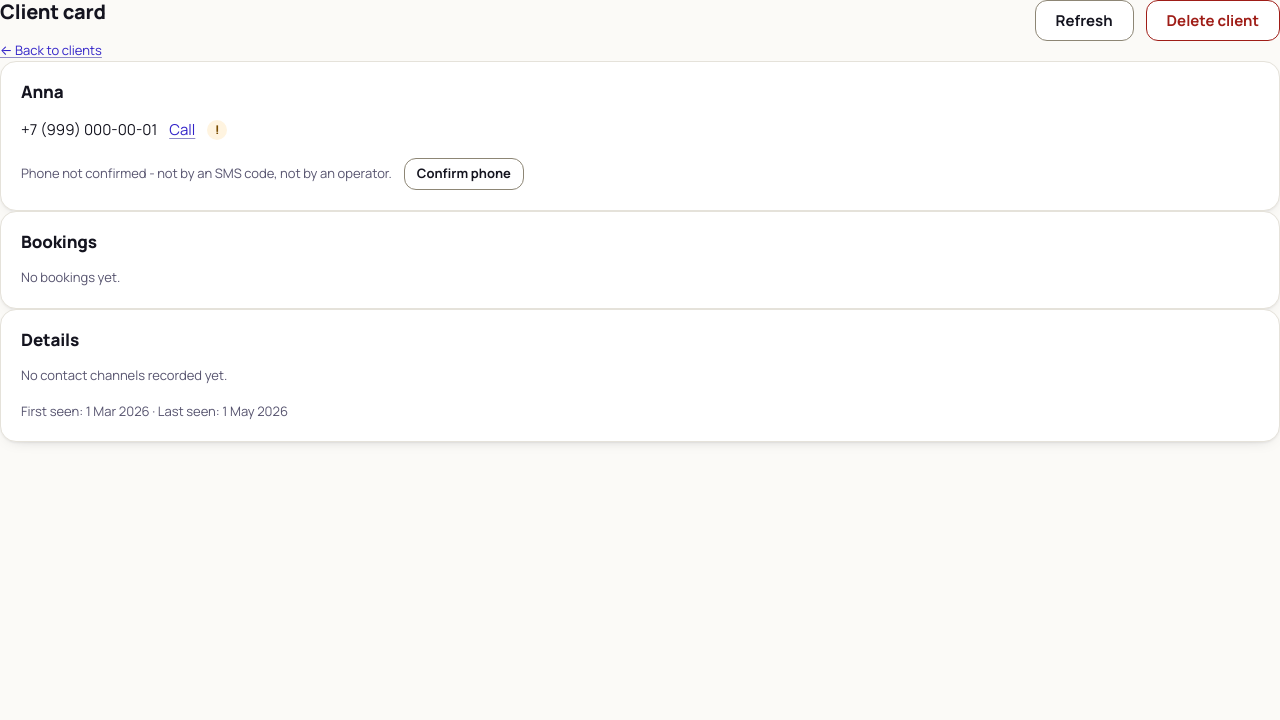
the delete-client action (26-275) › swaps the confirm dialog for the blocked one when the server refuses with 409 person_erase.future_bookings
This screenshot has width=1280, height=720.
Click the button "Delete client".
click(1213, 20)  # box [1146, 0, 1279, 41]
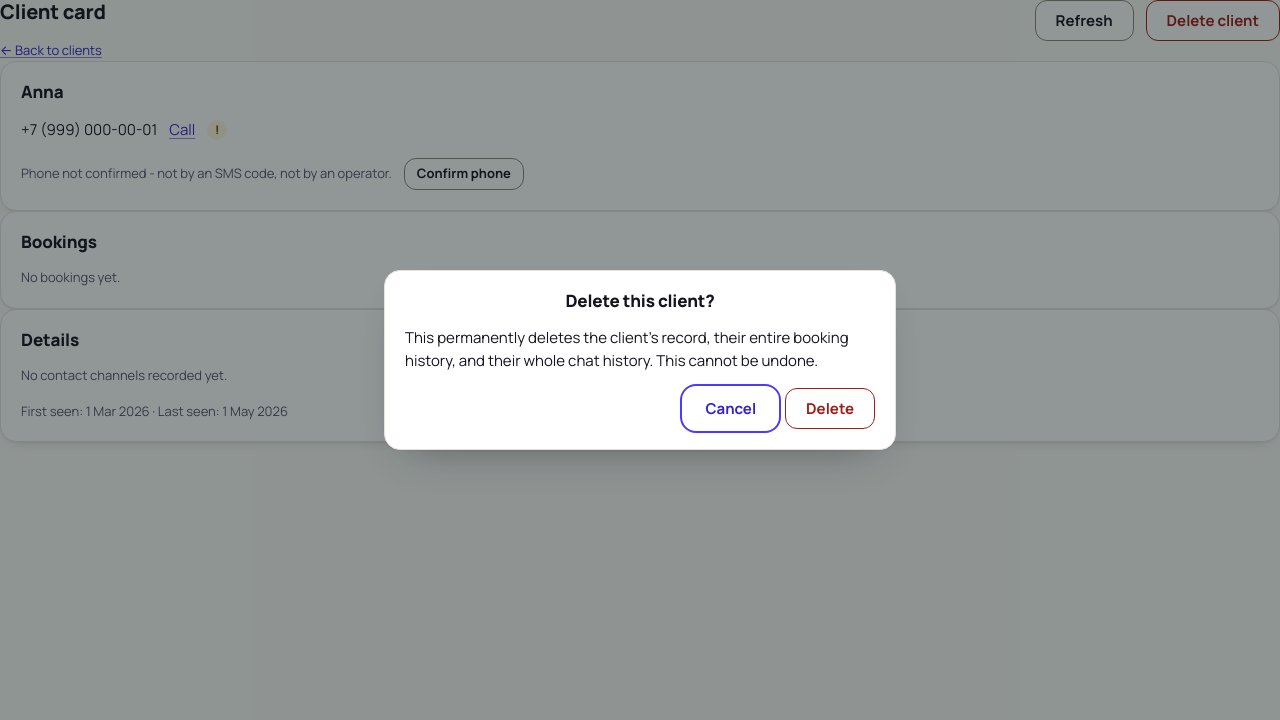
Click the button "Delete".
click(830, 409)  # box [785, 388, 875, 429]
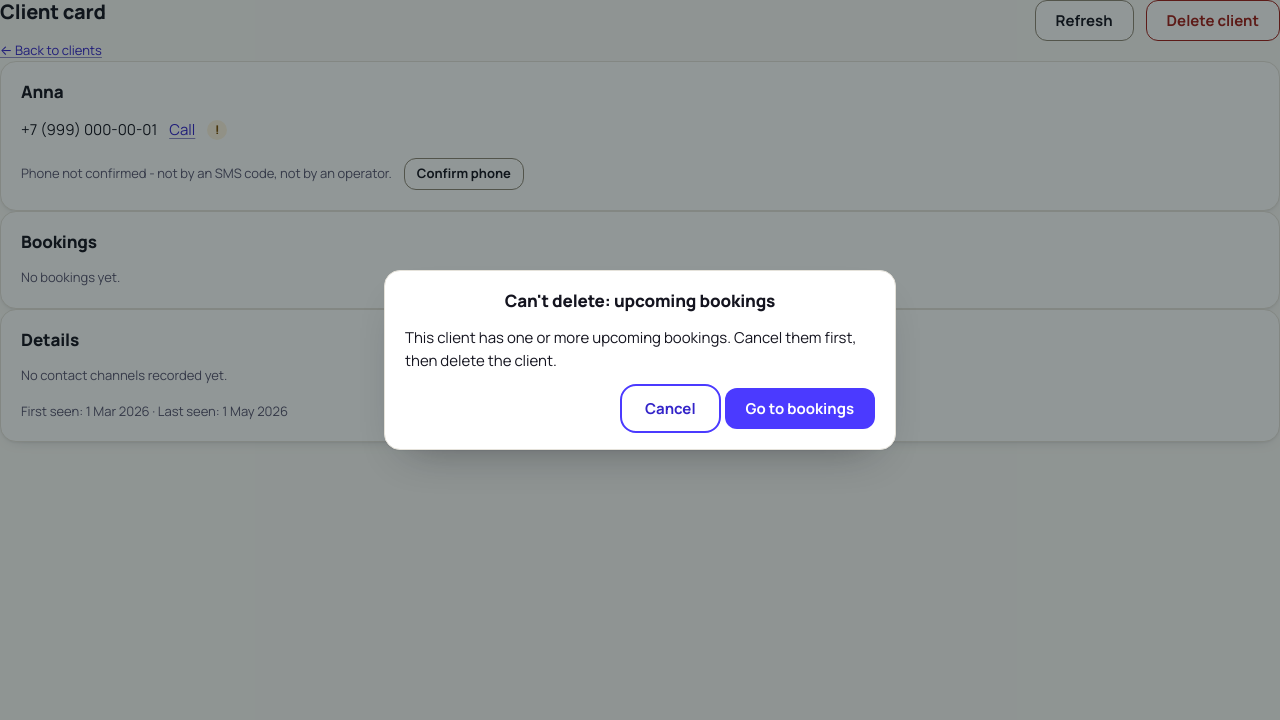
Expected: the dialog shows "upcoming bookings", [505, 289, 775, 312]
